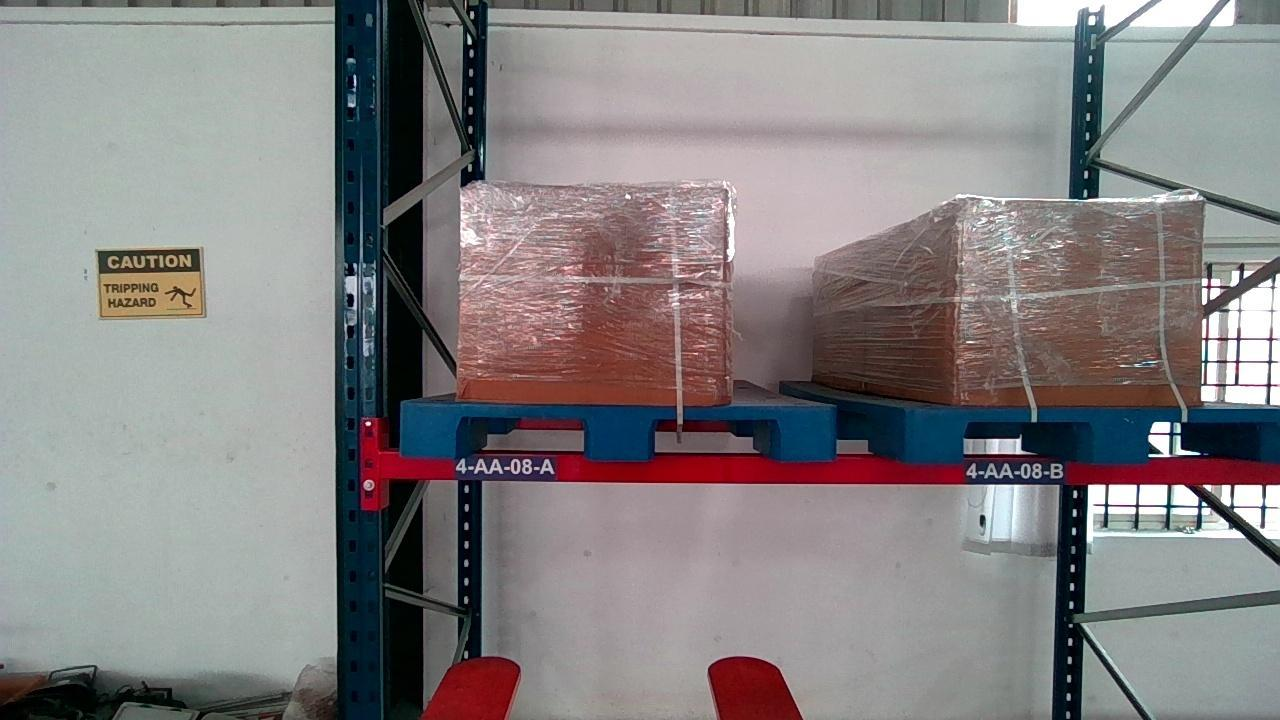h_rack: (382, 450, 1279, 484)
small_pallet: (400, 403, 834, 462), (907, 411, 1280, 460)
